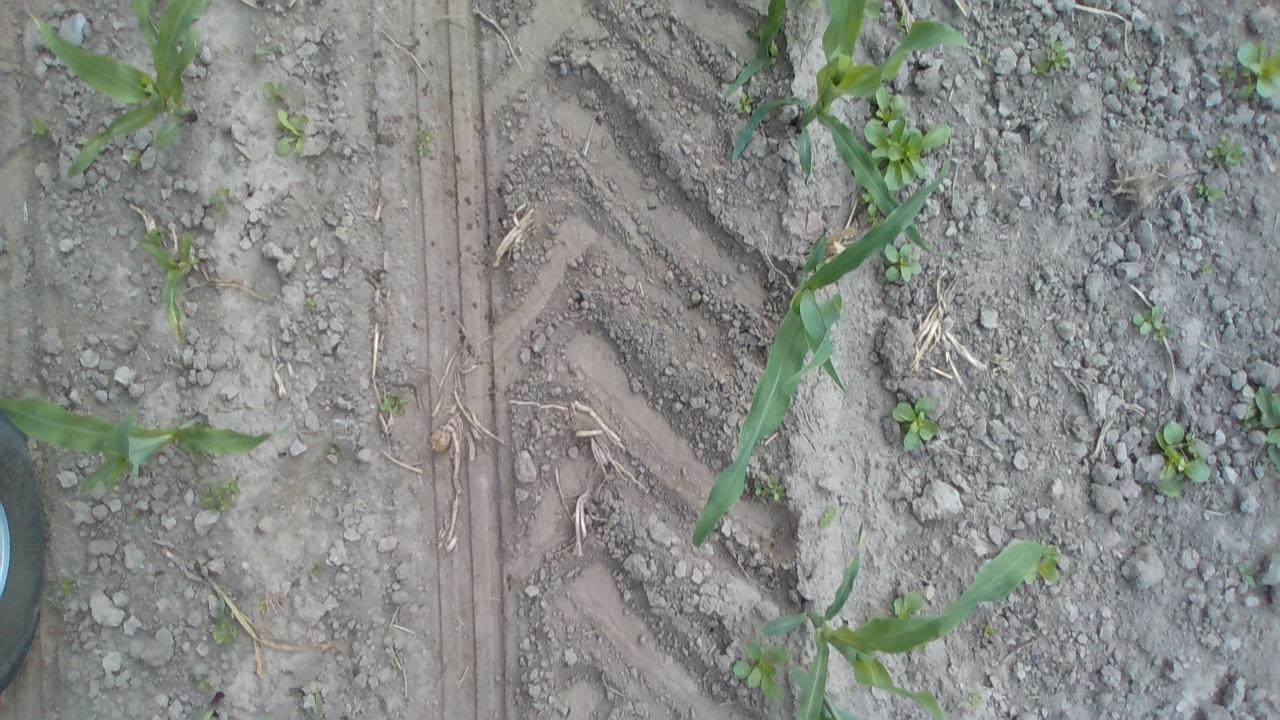Maize: (691, 146, 953, 552), (731, 0, 991, 261), (760, 518, 1060, 720), (24, 1, 210, 182), (0, 391, 276, 505), (722, 0, 788, 100), (142, 221, 198, 338), (790, 661, 854, 720), (193, 693, 226, 720)
Weeds: (863, 86, 953, 186), (1156, 416, 1212, 504), (730, 636, 791, 708), (1235, 37, 1280, 106), (1244, 382, 1280, 466), (889, 394, 940, 450), (1026, 31, 1076, 80), (1129, 302, 1178, 346), (1202, 127, 1250, 168), (196, 476, 246, 514), (274, 108, 309, 158), (883, 241, 924, 282), (958, 685, 992, 717), (380, 390, 415, 418), (892, 588, 923, 618), (749, 476, 787, 499), (209, 614, 236, 645), (1040, 546, 1063, 582), (1194, 178, 1224, 204), (52, 574, 78, 603), (414, 126, 439, 156), (208, 186, 232, 214), (732, 90, 754, 115), (252, 44, 284, 61), (313, 680, 326, 720), (859, 190, 877, 218), (262, 81, 285, 102), (28, 114, 49, 136), (306, 556, 326, 576), (1218, 60, 1236, 80), (1118, 74, 1138, 92), (128, 150, 146, 170), (144, 228, 165, 245), (818, 507, 836, 526), (978, 620, 998, 637), (194, 670, 209, 691), (302, 296, 316, 310), (257, 596, 269, 612), (895, 14, 907, 30), (1199, 264, 1216, 275), (126, 509, 142, 520), (328, 446, 342, 456)
